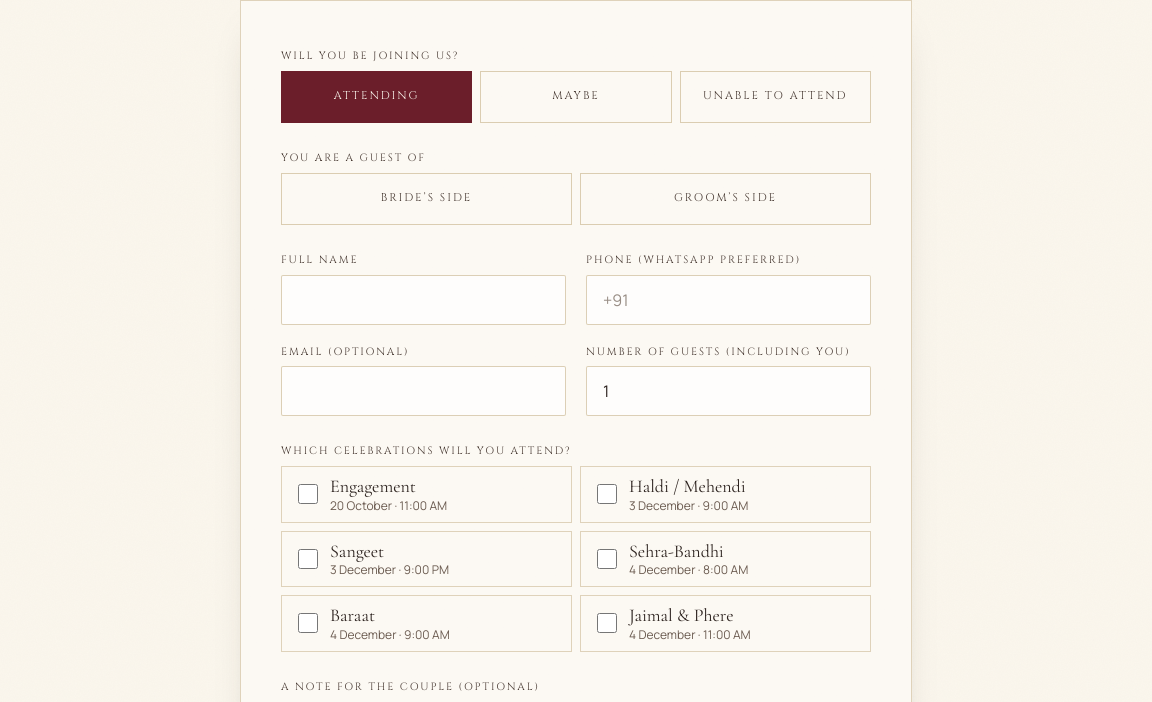
Test: RsvpForm › submits a complete RSVP with an idempotency key and shows a confirmation
Click the radio button "Groom’s side". click: {"x": 726, "y": 199}
box: [580,173,871,225]
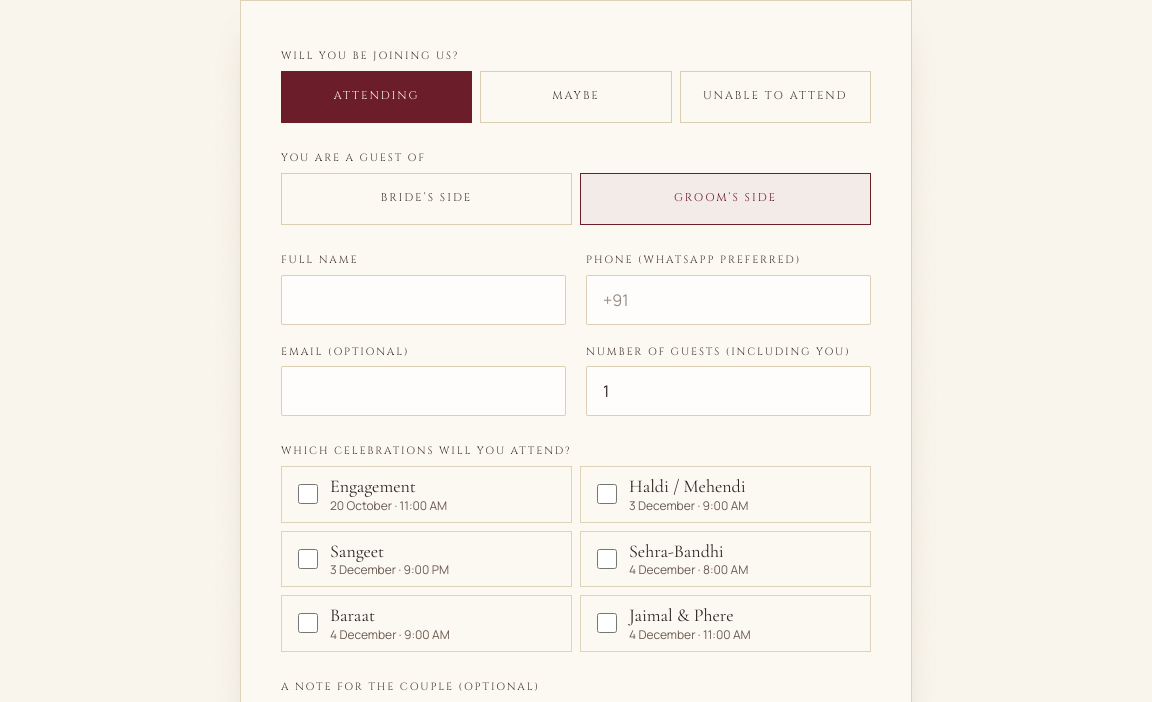
Type "Ananya Sharma" into the field labelled "Full name". click: {"x": 424, "y": 300}
box: [281,274,566,324]
Type "+91 98100 11002" into the field labelled "Phone (WhatsApp preferred)". click: {"x": 728, "y": 300}
box: [586,274,871,324]
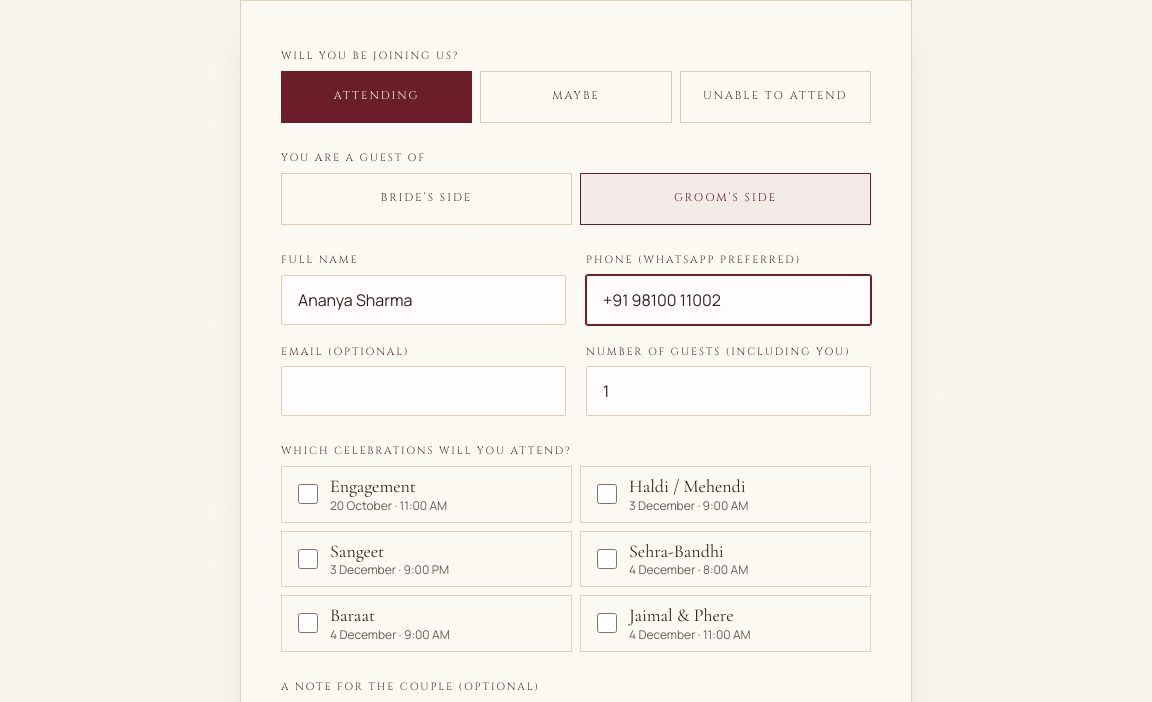
Replace the text in the number field labelled "Number of guests (including you)" with "2". click: {"x": 728, "y": 391}
box: [586,366,871,416]
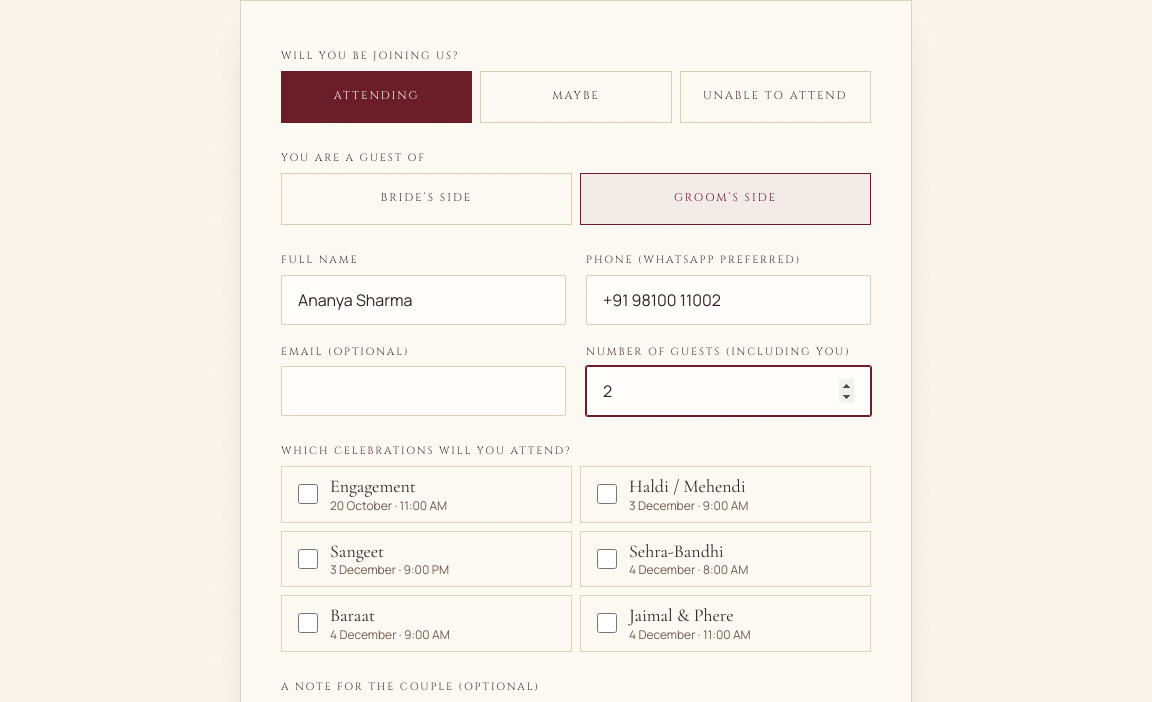
Click the checkbox labelled "Sangeet 3 December · 9:00 PM". click: {"x": 308, "y": 559}
box: [298,549,318,569]
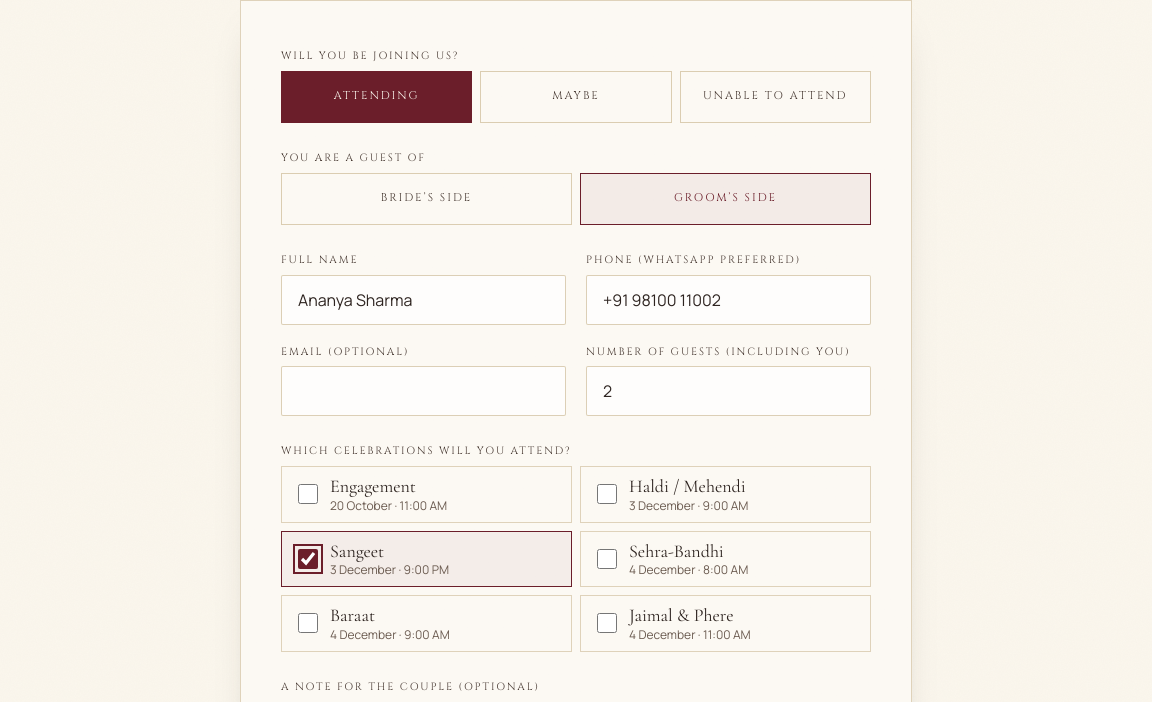
Click the checkbox labelled "Jaimal & Phere 4 December · 11:00 AM". click: {"x": 607, "y": 624}
box: [597,614,617,634]
(page scrolled)
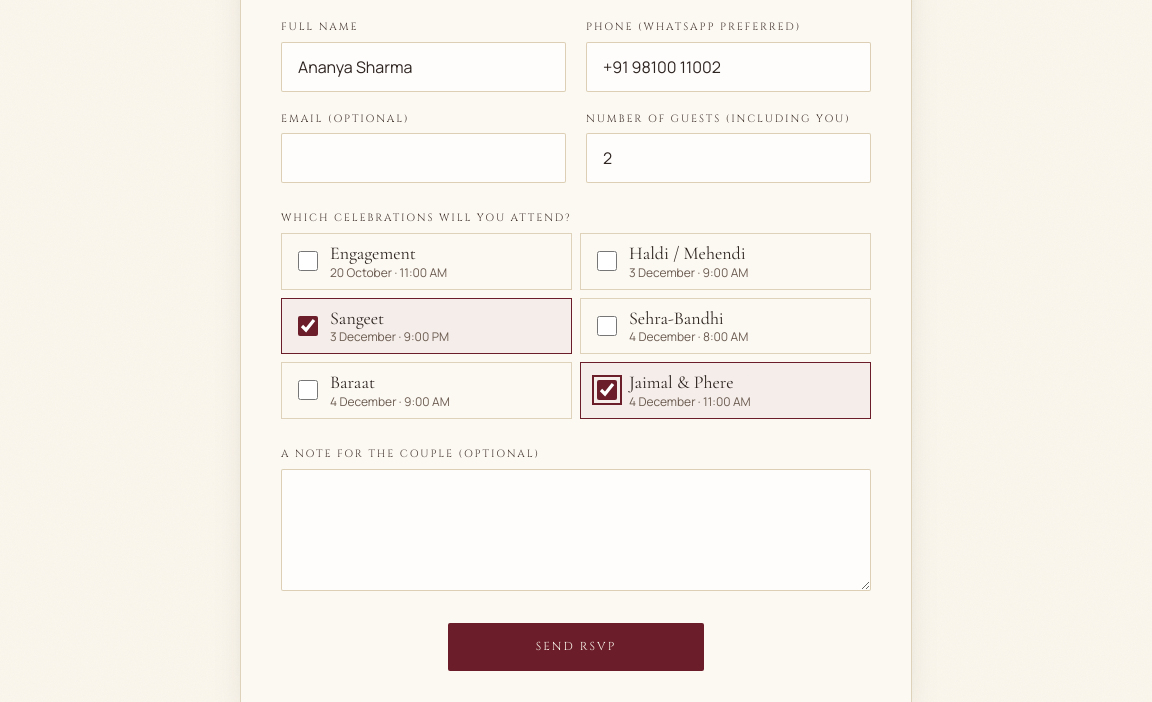
Click the button "Send RSVP". click: {"x": 576, "y": 647}
box: [448,623,704,671]
(page scrolled)
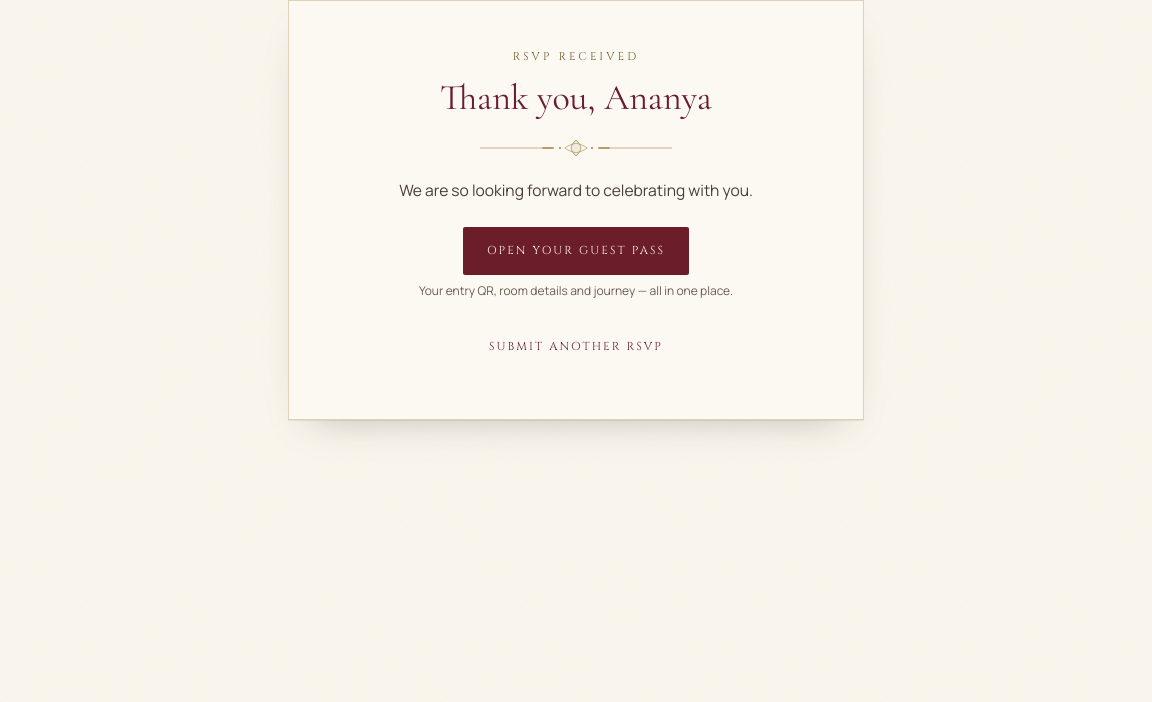
Expected: the message with test id "rsvp-confirmation" shows "Thank you, Ananya", [288,0,864,420]
